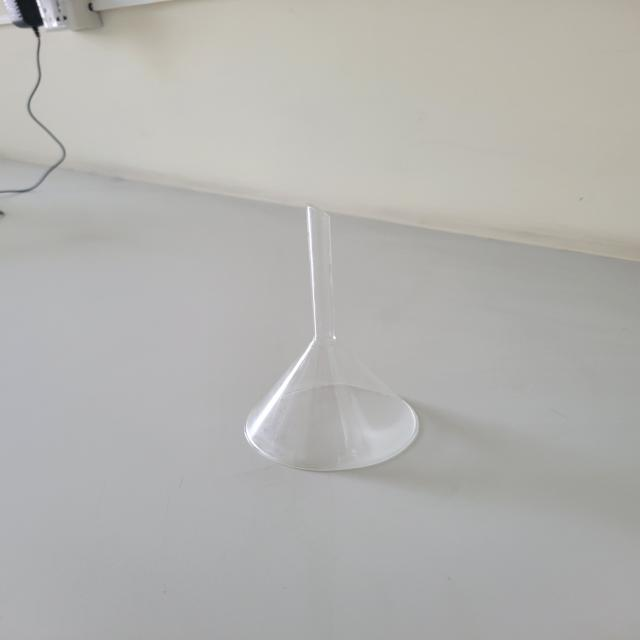Funnel: (206, 170, 448, 513)
